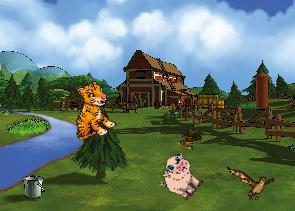eagle: (227, 163, 276, 202)
pig: (153, 149, 209, 205)
tiger: (58, 78, 122, 146)
